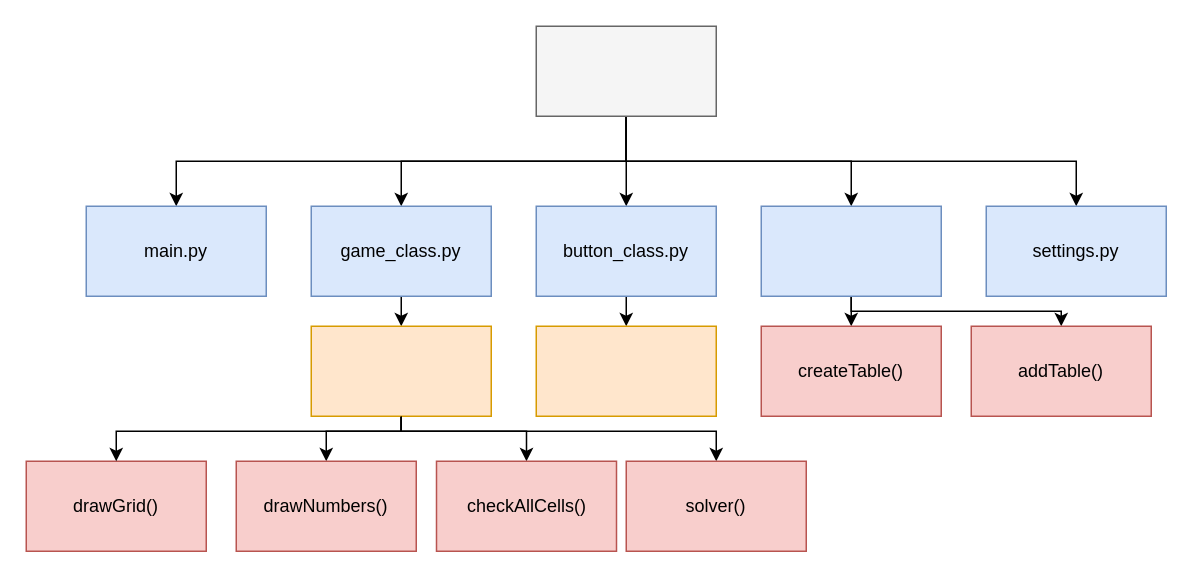
Some shapes in this 1193 by 578 pixel diagram are drawn without their labels. The shapes that lost their labels are listed below. From the top down, each one's centre as x and y in pixels, then its label:
(625,70): Main Program
(850,250): database.py
(400,370): Game
(625,370): Button
